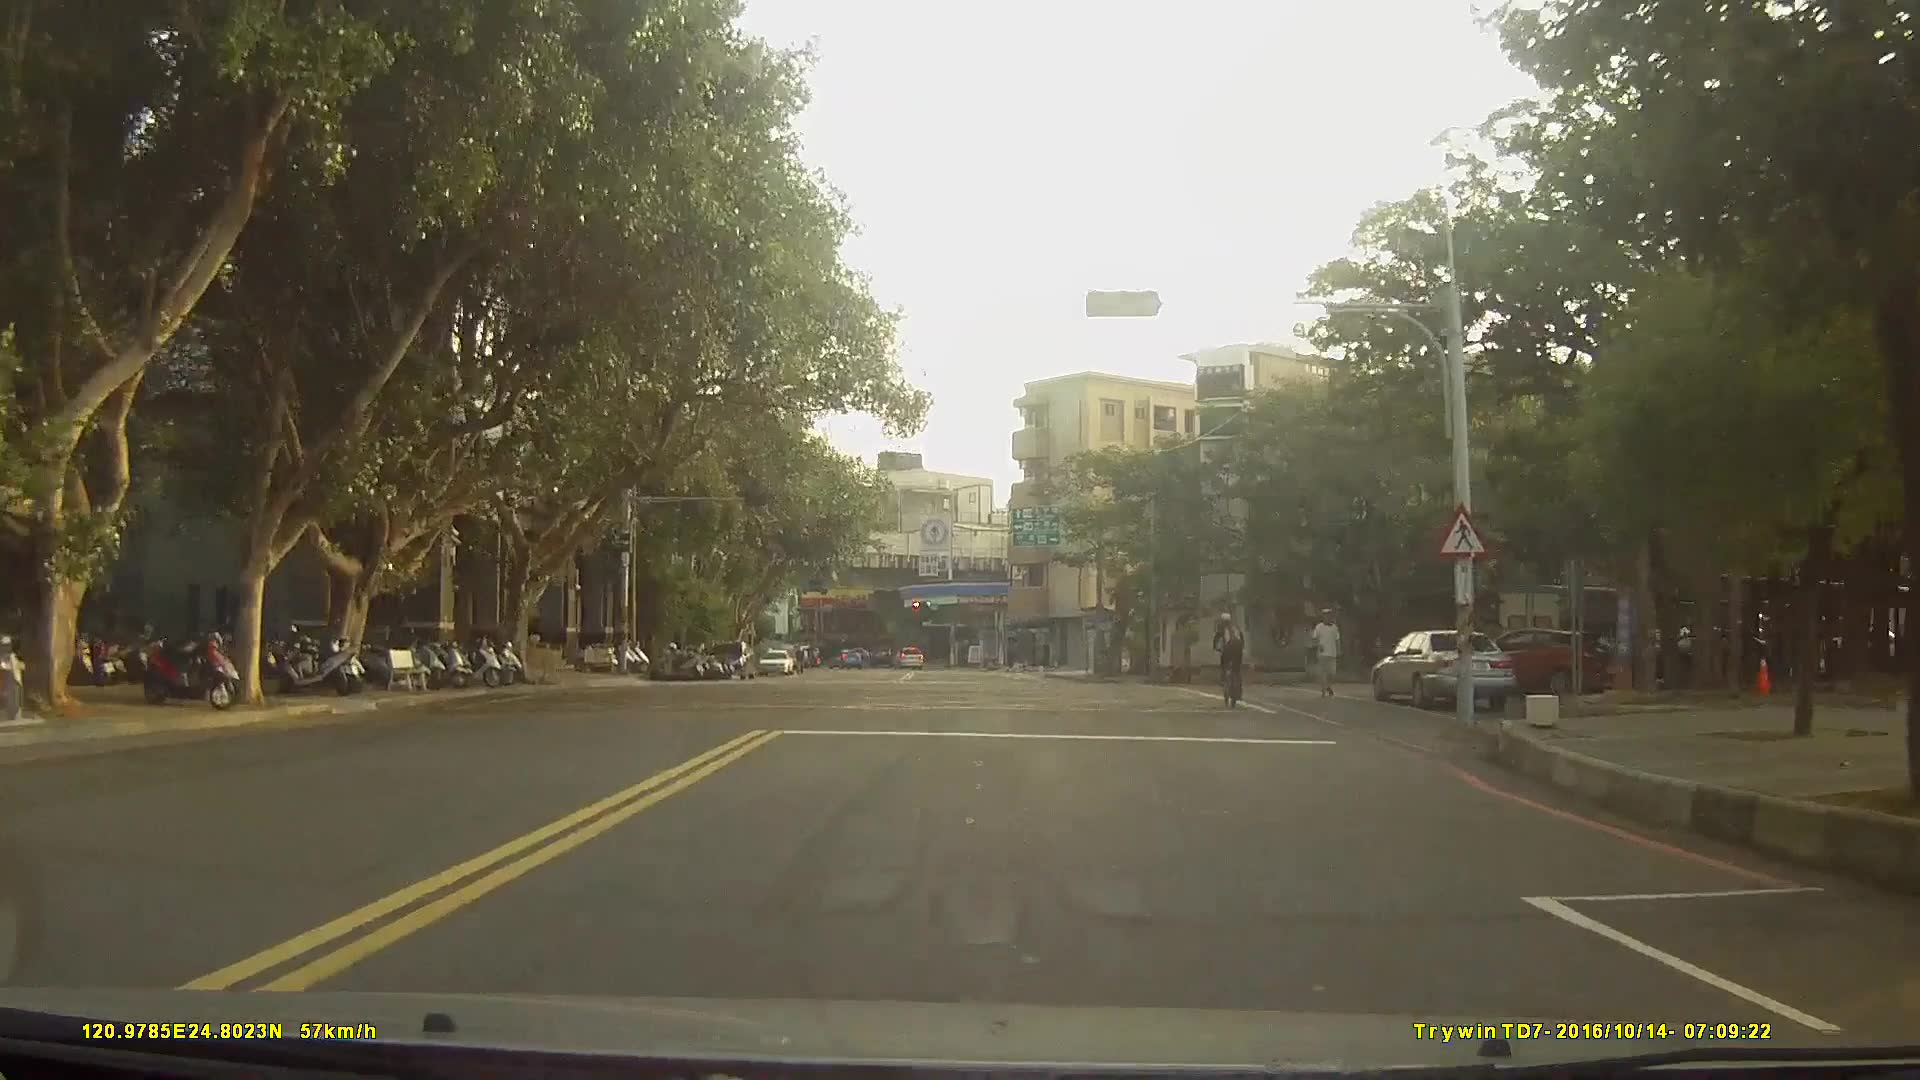pedestrian: (1310, 598, 1346, 704), (526, 610, 546, 645)
rider: (1208, 610, 1248, 707)
vehicle: (1373, 625, 1514, 708), (1457, 626, 1586, 696), (704, 635, 756, 676), (758, 646, 793, 677), (889, 642, 922, 667)
